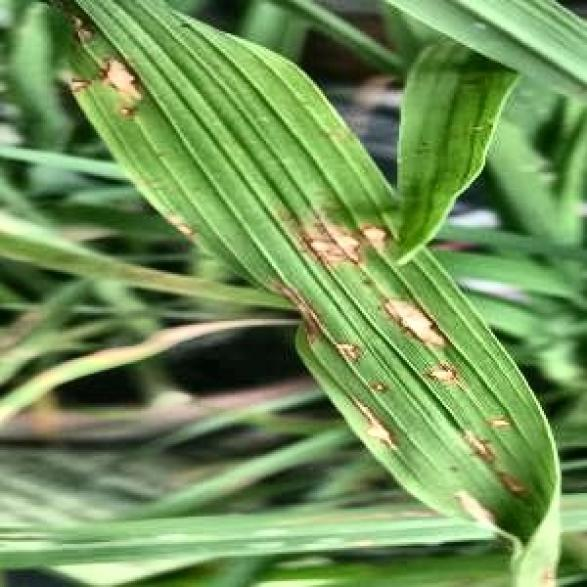Leaf_smut: (260, 151, 526, 507)
